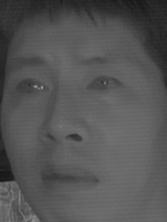eye: (84, 73, 126, 95), (13, 75, 50, 97)
mouth: (41, 157, 99, 196)
